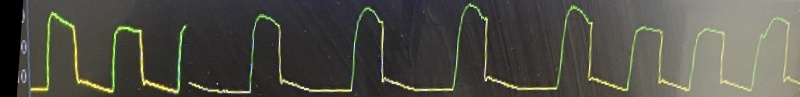normal_pressure: (32, 0, 792, 97)
